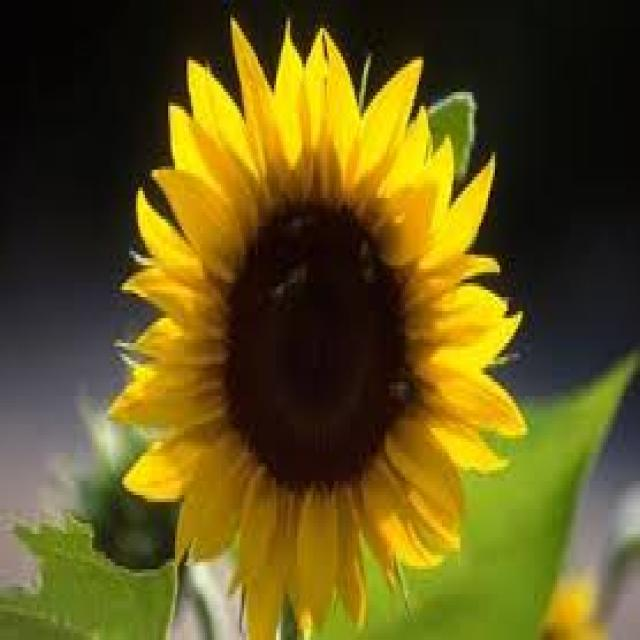sunflower: (99, 7, 532, 640)
